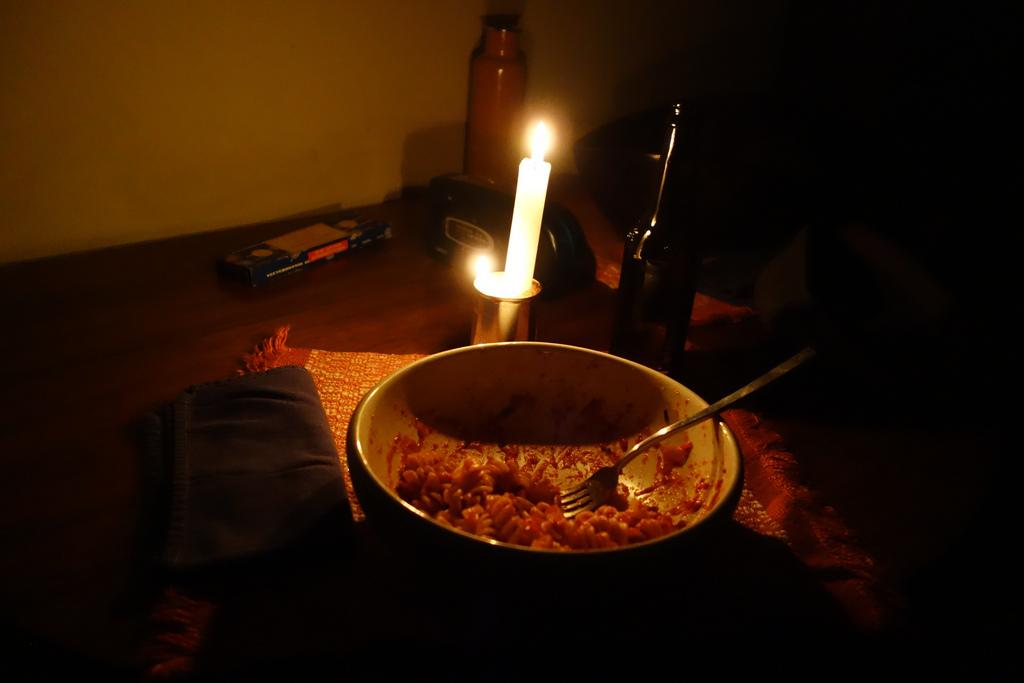fire: (525, 113, 550, 182), (465, 260, 502, 295)
